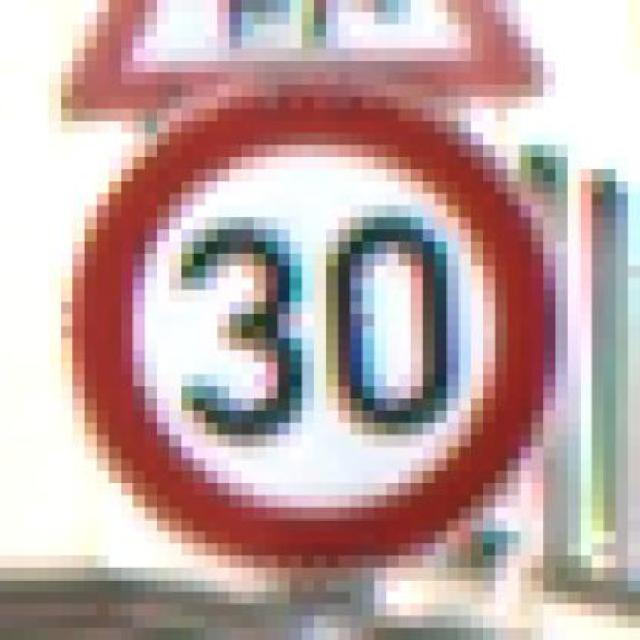Speed Limit 30 KMPh: (24, 72, 628, 616)
